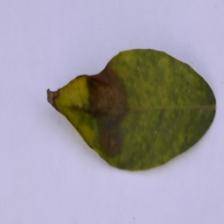black spot: (50, 59, 144, 154)
